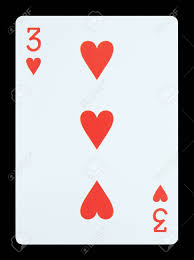three of hearts: (16, 15, 178, 245)
